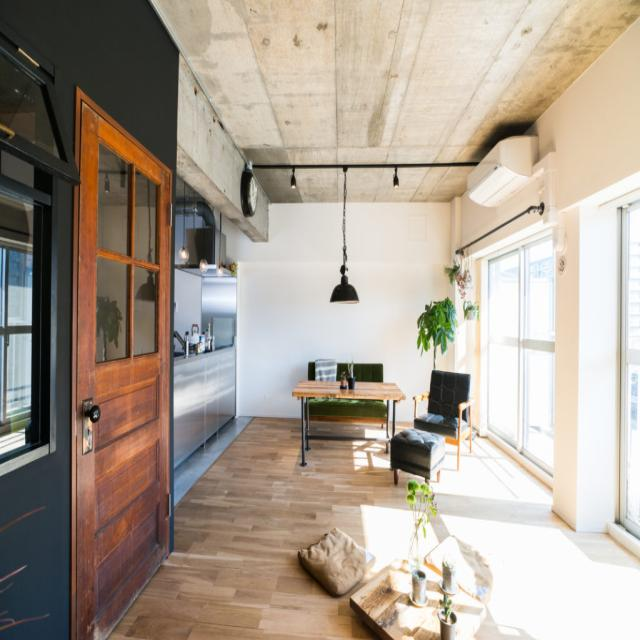vintage chair: (415, 369, 476, 473)
vintage desk: (291, 378, 403, 470)
